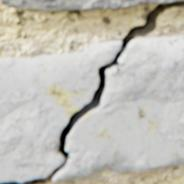brick: (2, 0, 176, 9)
broken_brick: (52, 34, 183, 180), (0, 39, 121, 180)
crack: (0, 0, 183, 183), (102, 160, 108, 169)
